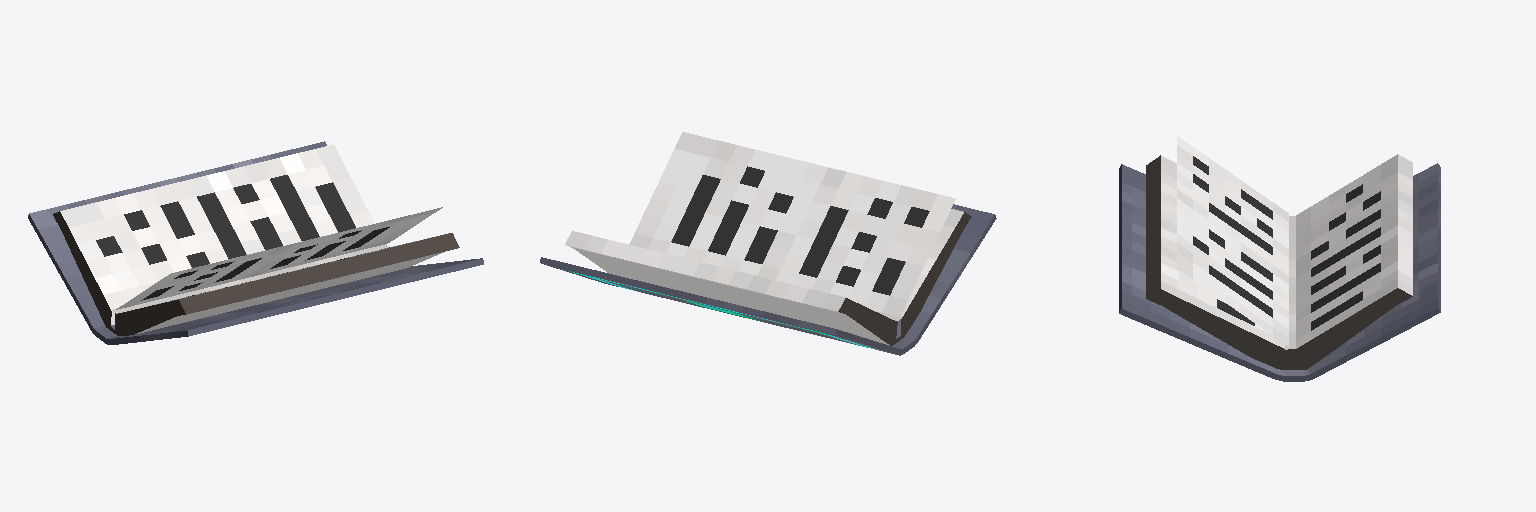
3 views of the same model, side by side, from view 1: azimuth 30°, elevation 25°; view 2: azimuth 150°, elevation 25°; view 3: azimuth 270°, elevation 25° (orthographic).
Visible parts, largest first — view 1: cube, plane; view 2: plane, cube; view 3: cube, plane.
Boxes of the visible parts, box(x1,y1,x2,y2) form: cube: box(28, 141, 483, 344); plane: box(116, 207, 442, 309); plane: box(629, 132, 955, 316); cube: box(540, 204, 996, 355); cube: box(1119, 154, 1440, 381); plane: box(1177, 136, 1288, 346).
Bounding box in the file's own units: 1 × 0.3447 × 0.9434.
3 materials, 3 textured.